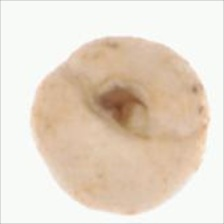L3: (85, 75, 151, 139)
L4: (32, 34, 209, 215)
